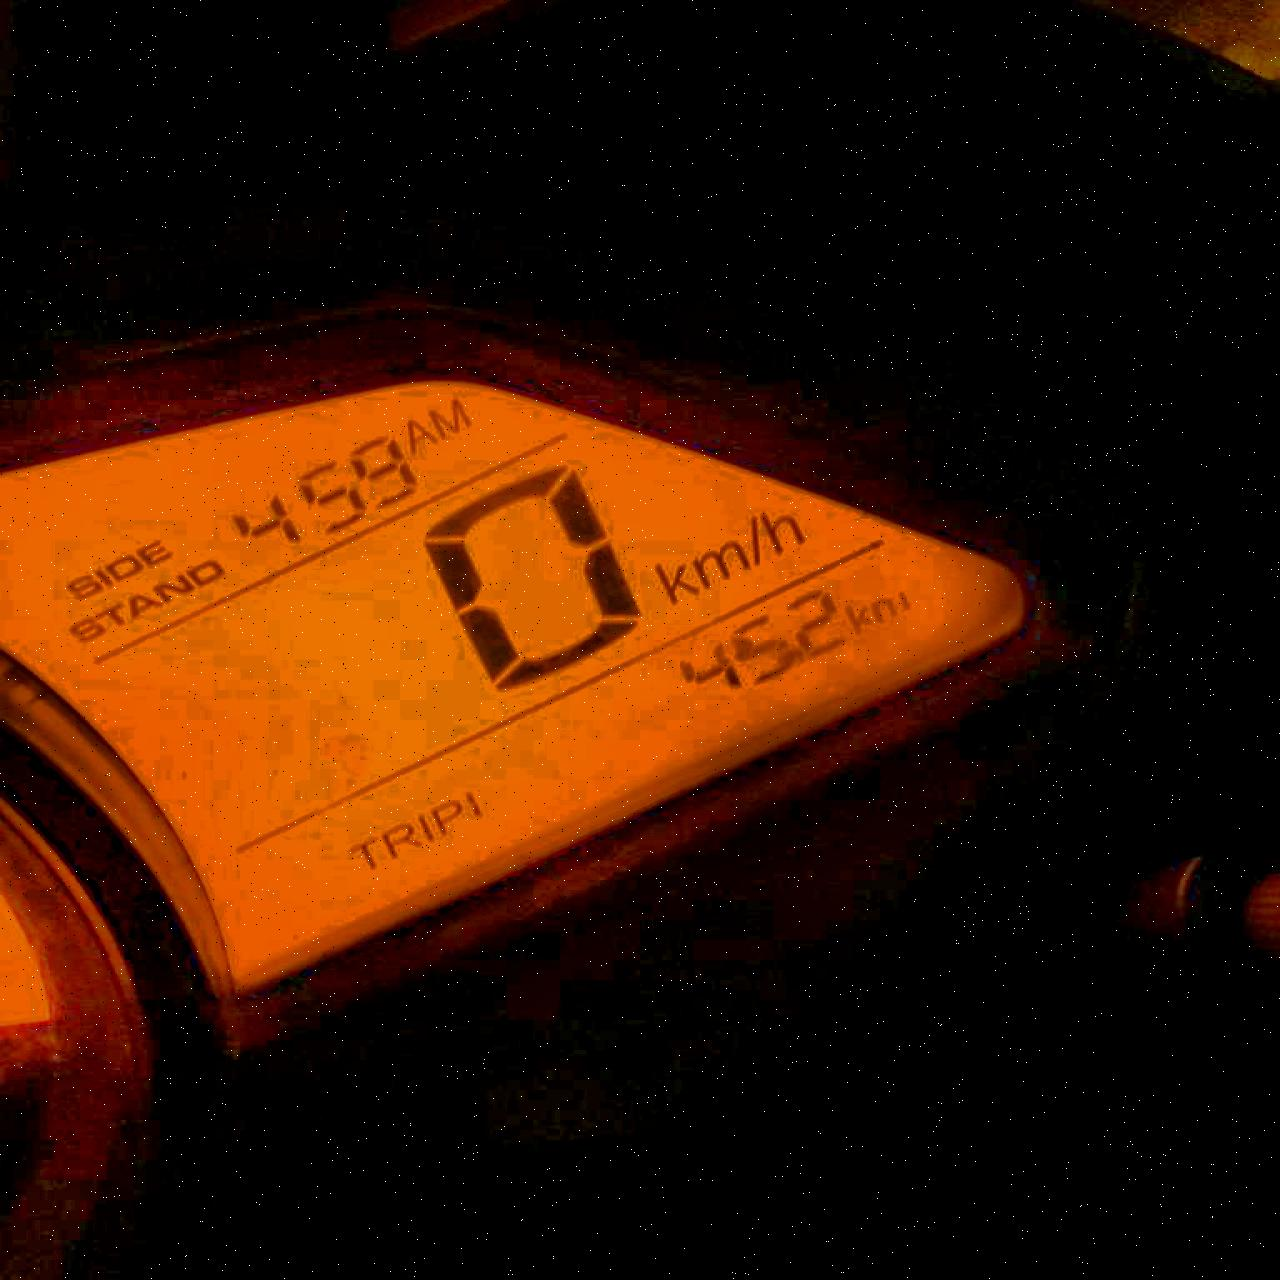-: (791, 647, 806, 667)
0: (423, 477, 647, 683)
2: (784, 585, 849, 656)
4: (230, 490, 305, 545), (672, 647, 745, 695)
5: (293, 463, 367, 532), (729, 610, 794, 685)
9: (352, 435, 418, 501)
X: (758, 505, 813, 557), (687, 544, 750, 586), (430, 396, 475, 437), (651, 559, 690, 601), (379, 818, 418, 856), (340, 837, 382, 871), (738, 515, 767, 565), (185, 554, 225, 590), (430, 797, 462, 837), (402, 416, 438, 450), (154, 572, 192, 601), (64, 615, 103, 644), (61, 571, 96, 601), (128, 588, 162, 618), (871, 595, 912, 619), (135, 538, 172, 563), (105, 552, 139, 579), (94, 600, 123, 628), (411, 809, 434, 845), (844, 601, 869, 633), (91, 566, 110, 588)
odometer: (1, 372, 1036, 1002)
